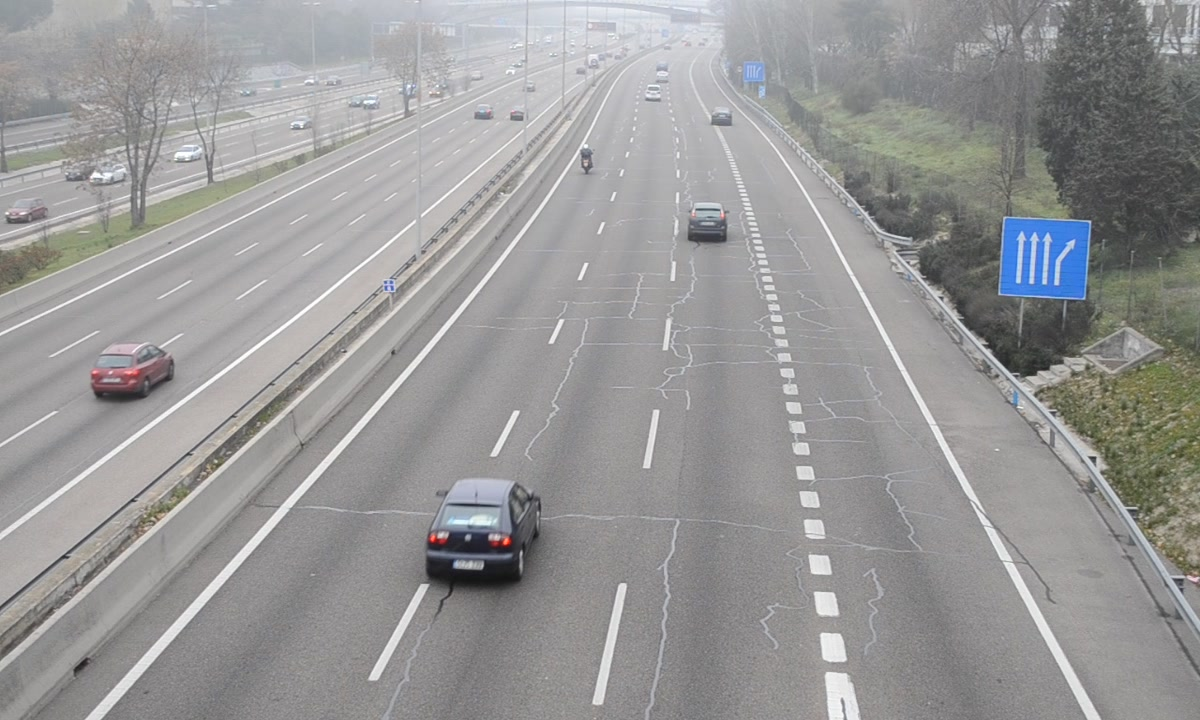car: (426, 480, 543, 583), (687, 202, 725, 242), (710, 107, 732, 126)
motorcycle: (579, 143, 595, 177)
